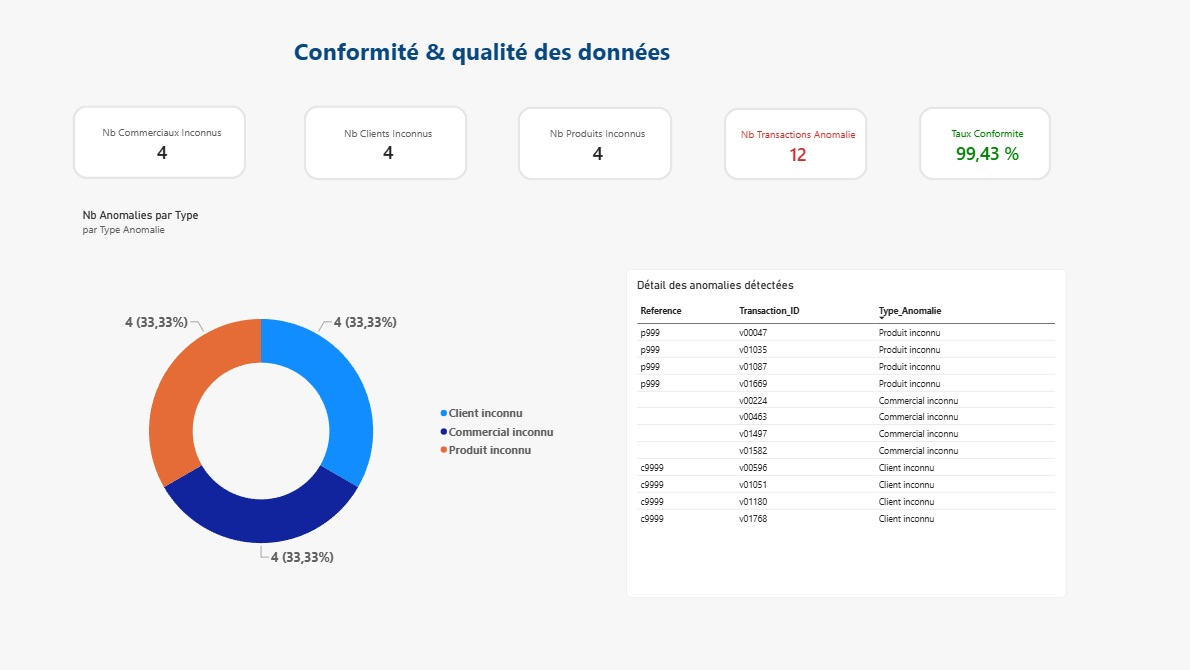

The dashboard page shown, as its layout file describes it:
{"tool":"powerbi","page":{"name":"Conformité / Qualité des données","canvas":[1920,1080],"ordinal":3},"visuals":[{"type":"cardVisual","fields":{"Data":["Mesures.Taux Conformite"]},"box":[1478,172,212,118],"z":0},{"type":"cardVisual","fields":{"Data":["Mesures.Nb Transactions Anomalie"]},"box":[1166,174,230,116],"z":1},{"type":"cardVisual","fields":{"Data":["Mesures.Nb Clients Inconnus"]},"box":[494,170,262,120],"z":2},{"type":"cardVisual","fields":{"Data":["Mesures.Nb Commerciaux Inconnus"]},"box":[124,170,278,118],"z":3},{"type":"cardVisual","fields":{"Data":["Mesures.Nb Produits Inconnus"]},"box":[836,172,248,118],"z":4},{"type":"textbox","box":[471.7,58.3,625,73.3],"z":6},{"type":"donutChart","fields":{"Category":["Types Anomalies.Type Anomalie"],"Y":["Mesures.Nb Anomalies par Type"]},"box":[123.3,320,795.4,684.1],"z":7},{"type":"tableEx","title":"Détail des anomalies détectées","fields":{"Values":["CTRL_Anomalies_Detail.Reference","CTRL_Anomalies_Detail.Transaction_ID","CTRL_Anomalies_Detail.Type_Anomalie"]},"box":[1010,432,704,526],"z":8}]}

Visuals, with their boxes in screenshot pixels (x1, y1, x2, y2), scaled from the page's 1920x1080 canvas onto the 1190x670 screenshot:
cardVisual - Mesures.Taux Conformite: detection(916, 107, 1047, 180)
cardVisual - Mesures.Nb Transactions Anomalie: detection(723, 108, 865, 180)
cardVisual - Mesures.Nb Clients Inconnus: detection(306, 105, 469, 180)
cardVisual - Mesures.Nb Commerciaux Inconnus: detection(77, 105, 249, 179)
cardVisual - Mesures.Nb Produits Inconnus: detection(518, 107, 672, 180)
textbox: detection(292, 36, 680, 82)
donutChart - Types Anomalies.Type Anomalie x Mesures.Nb Anomalies par Type: detection(76, 199, 569, 623)
"Détail des anomalies détectées" tableEx: detection(626, 268, 1062, 594)
